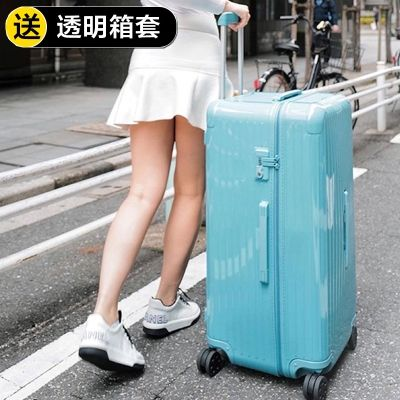box: (205, 93, 356, 377)
handle: (257, 200, 270, 284), (272, 89, 302, 101)
lock: (255, 149, 275, 182)
wheel: (196, 348, 222, 377), (302, 374, 329, 400), (347, 325, 358, 351)
